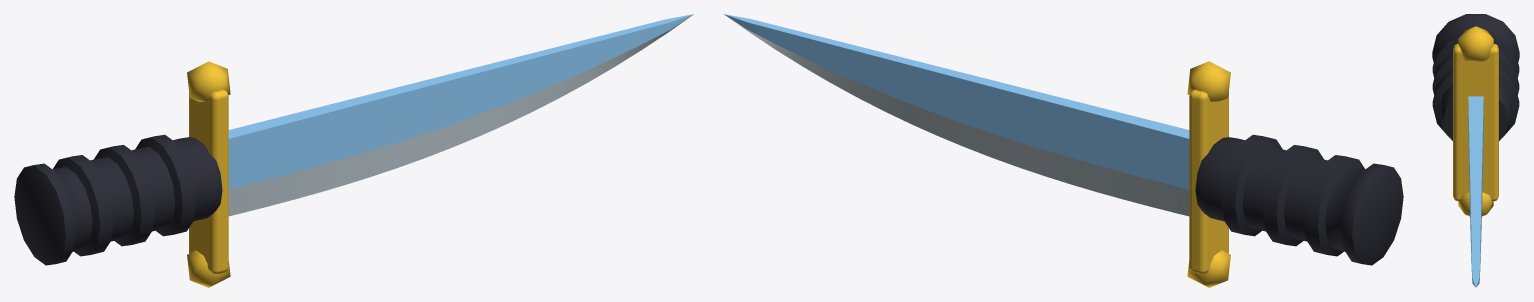
The model's file is knife.glb.
3 views of the same model, side by side, from view 1: azimuth 30°, elevation 25°; view 2: azimuth 150°, elevation 25°; view 3: azimuth 270°, elevation 25° (orthographic). The views are drawn at different scales.
Parts seen in each view (by area): view 1: Blade, Handle, Guard; view 2: Blade, Handle, Guard; view 3: Guard, Handle, Blade.
Part boxes in pixels (<box>): Blade: <box>228,14,693,216</box>; Handle: <box>14,134,222,265</box>; Guard: <box>187,61,230,287</box>; Blade: <box>724,14,1189,216</box>; Handle: <box>1195,134,1403,265</box>; Guard: <box>1187,61,1230,287</box>; Guard: <box>1453,26,1498,216</box>; Handle: <box>1432,14,1519,140</box>; Blade: <box>1468,96,1483,287</box>.
Size of the model in its own units: 0.59 by 0.194 by 0.08.
